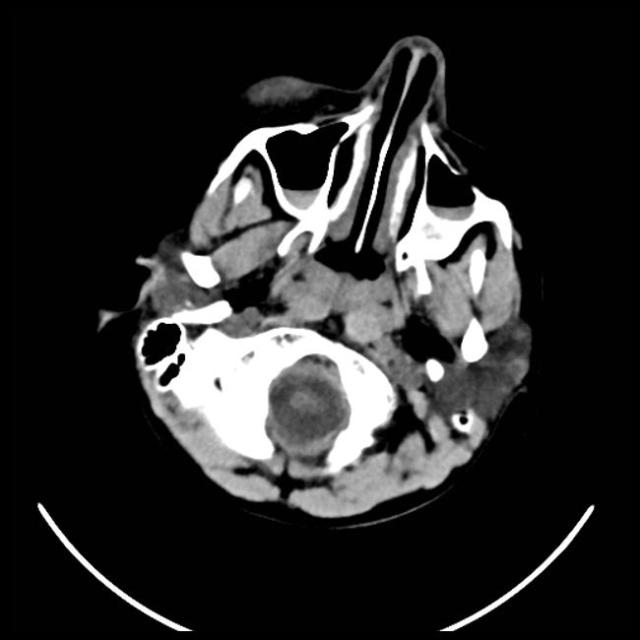lesion: (103, 32, 538, 526)
